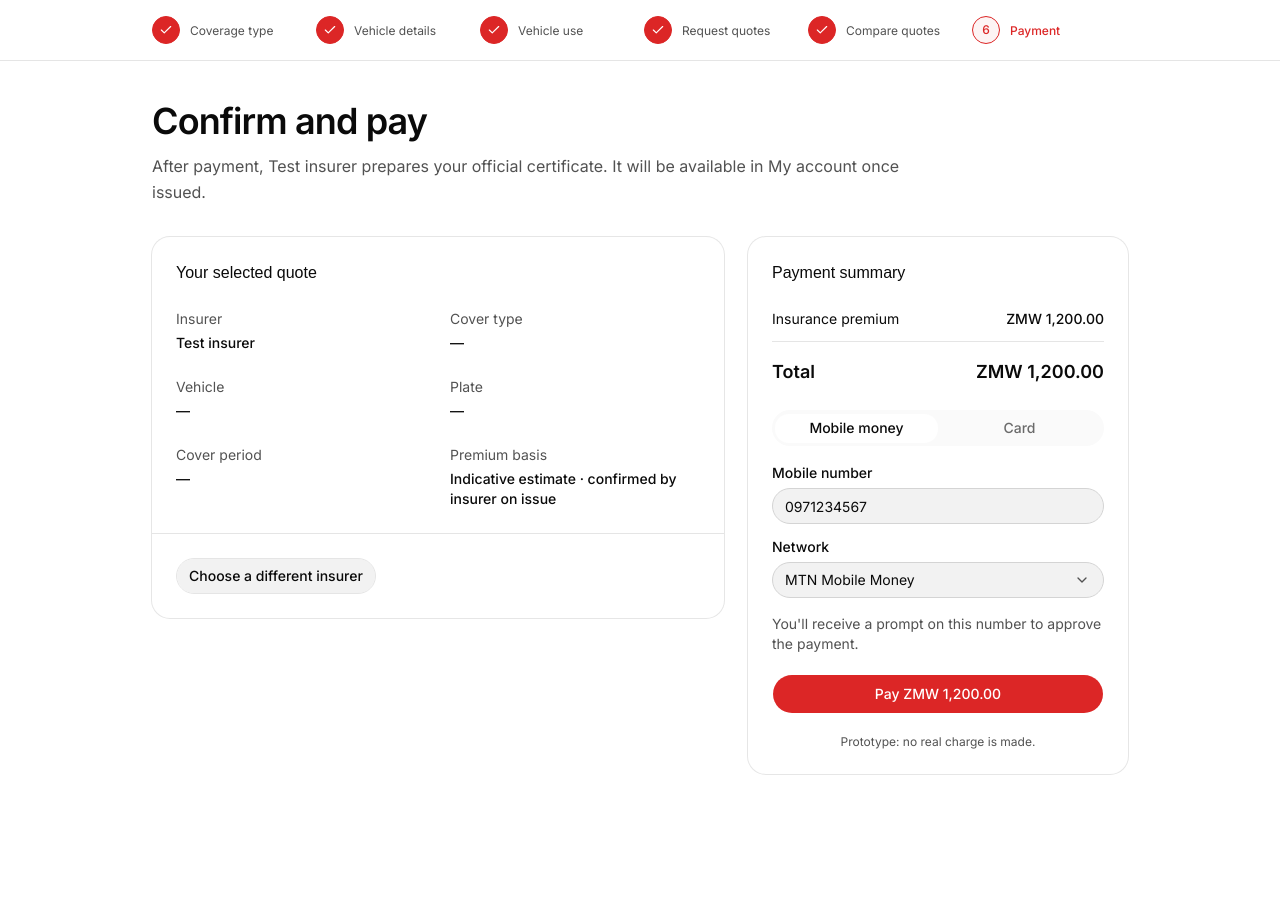
Test: Payment methods › switches between card and mobile money fields
Expected: the field labelled "Mobile number" holds "0971234567", [772,488,1104,524]
What coordinates should you click on to do the following:
click the tab "Card"
I would click on:
 (1020, 428)
Its box is [938,414,1101,442].
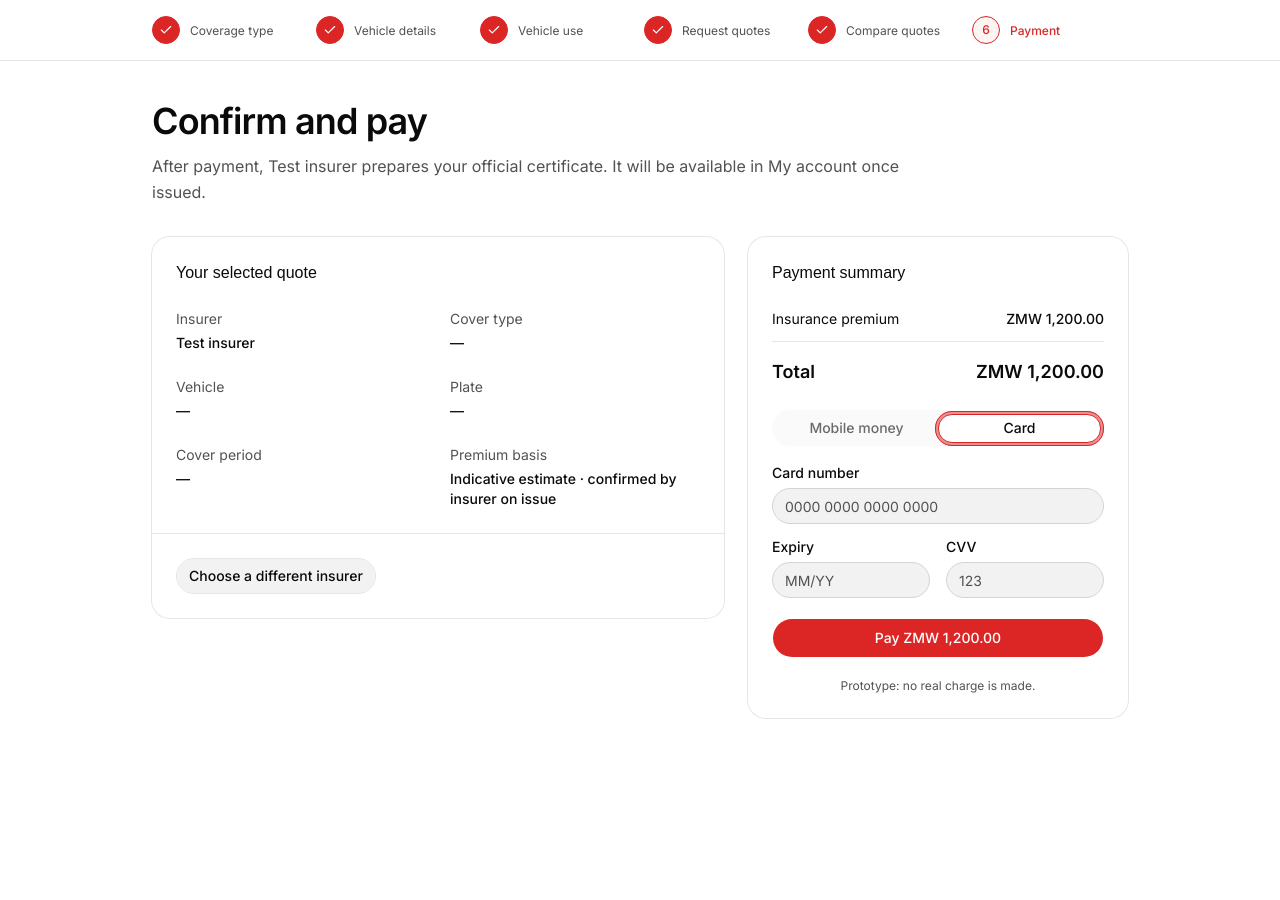
Now the label labelled "Mobile number" is gone
What coordinates should you click on to do the following:
click the tab "Mobile money"
I would click on:
 (856, 428)
Its box is [775,414,938,442].
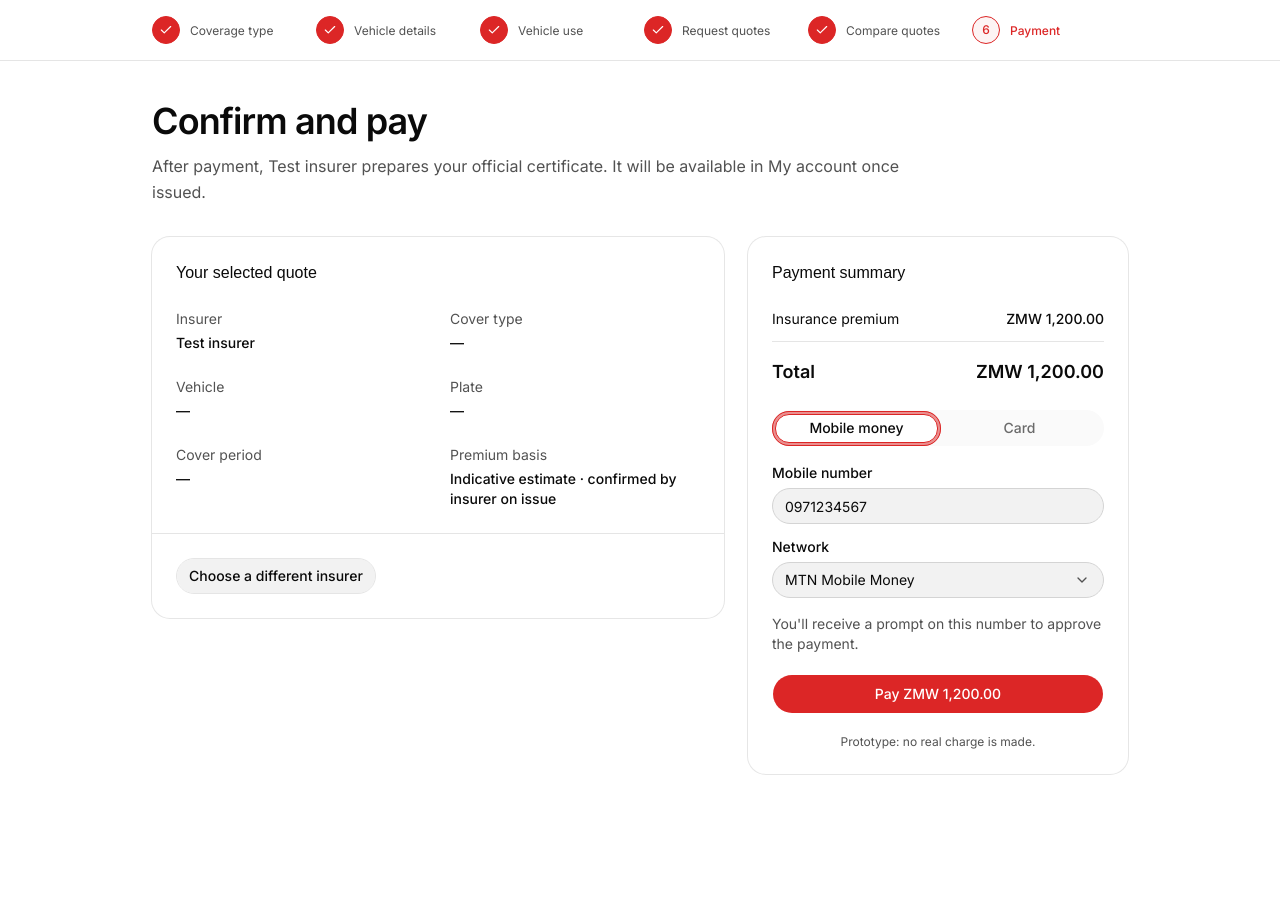
Now the field labelled "Mobile number" holds "0971234567", box [772,488,1104,524]
